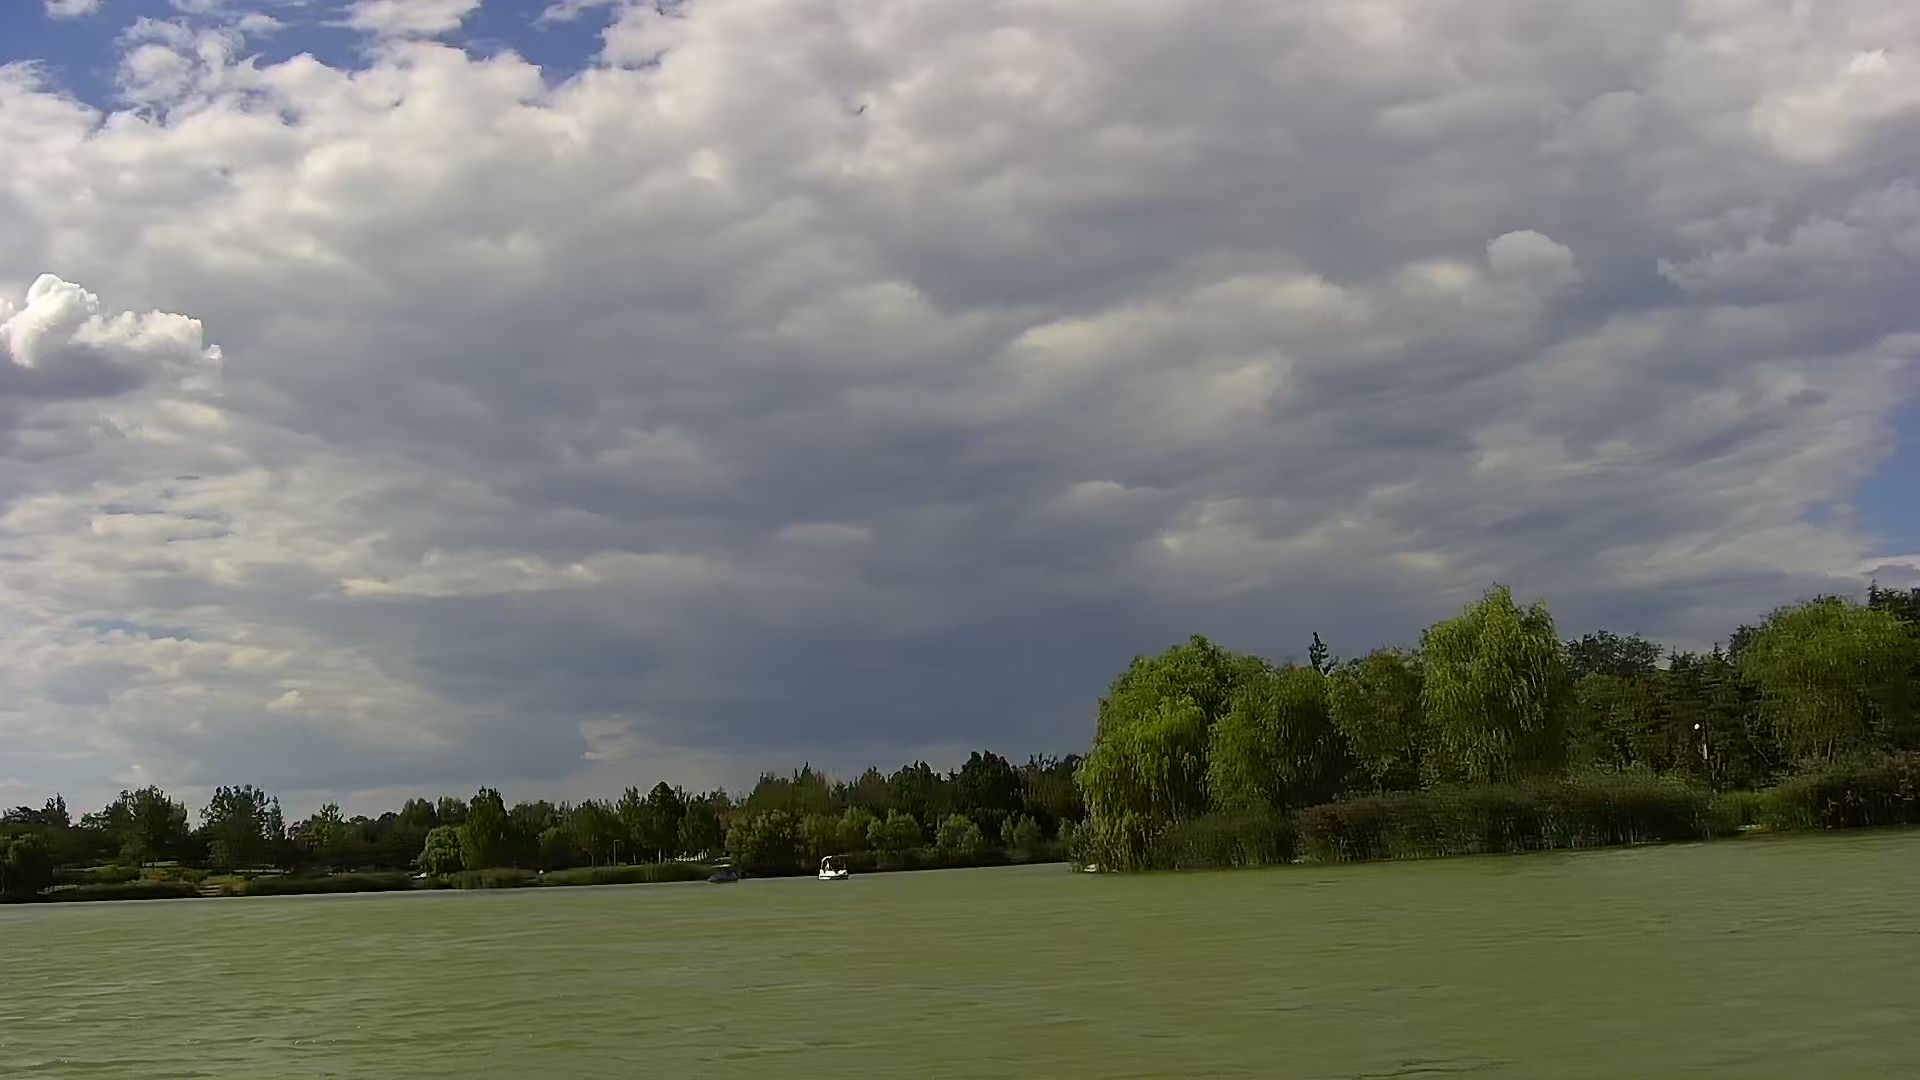boat: (810, 855, 855, 884), (707, 861, 738, 887)
